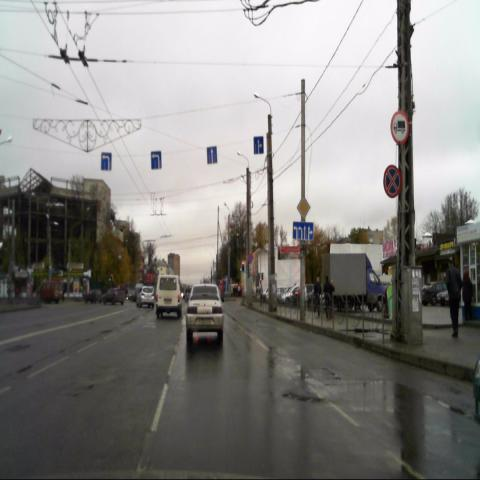2_1: (296, 196, 310, 219)
3_27: (383, 164, 401, 198)
3_4_1: (390, 110, 410, 145)
5_15_2: (101, 152, 111, 171), (254, 136, 264, 154), (207, 146, 217, 164), (151, 150, 161, 168)
